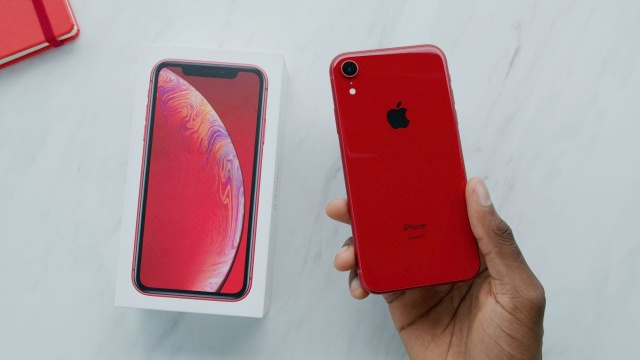apple: (375, 96, 431, 145)
